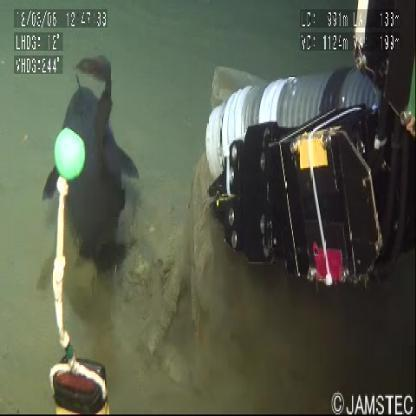Rác: (132, 67, 242, 378)
